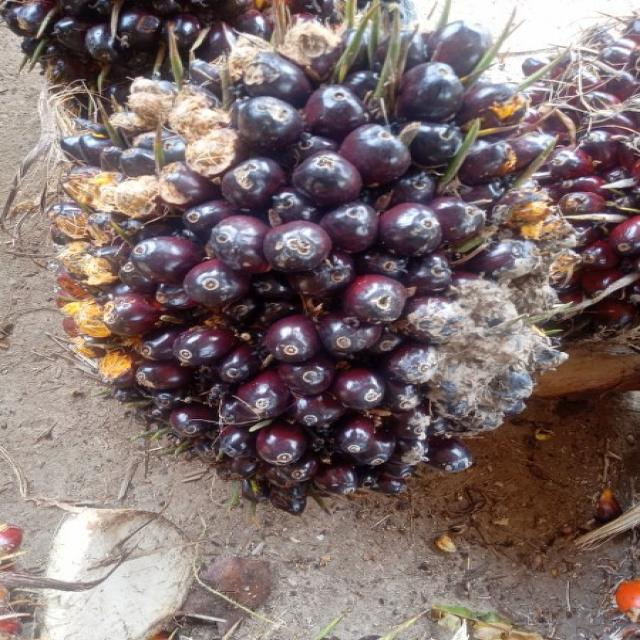fraksi 00: (37, 0, 576, 513)
